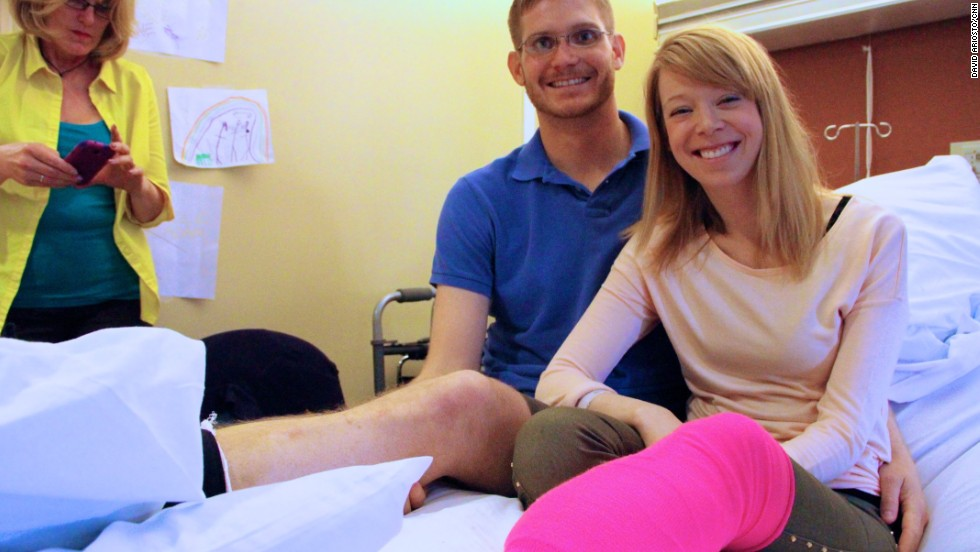Person: (627, 47, 870, 552), (437, 9, 656, 514)
